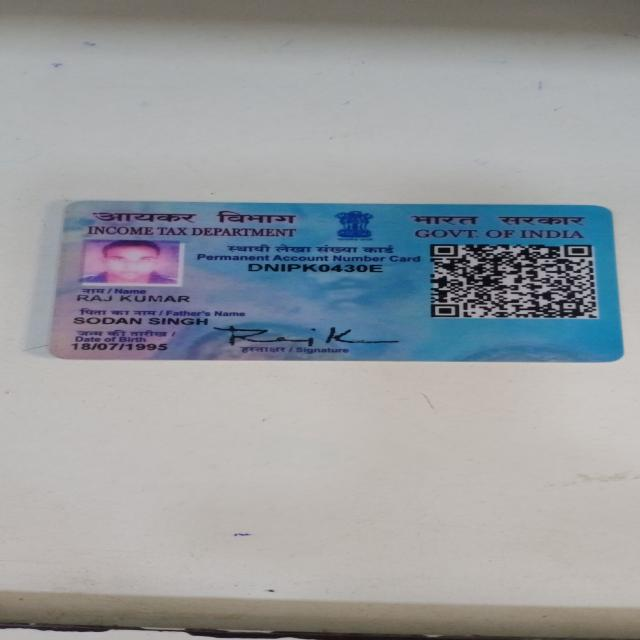pan_card: (46, 197, 618, 360)
